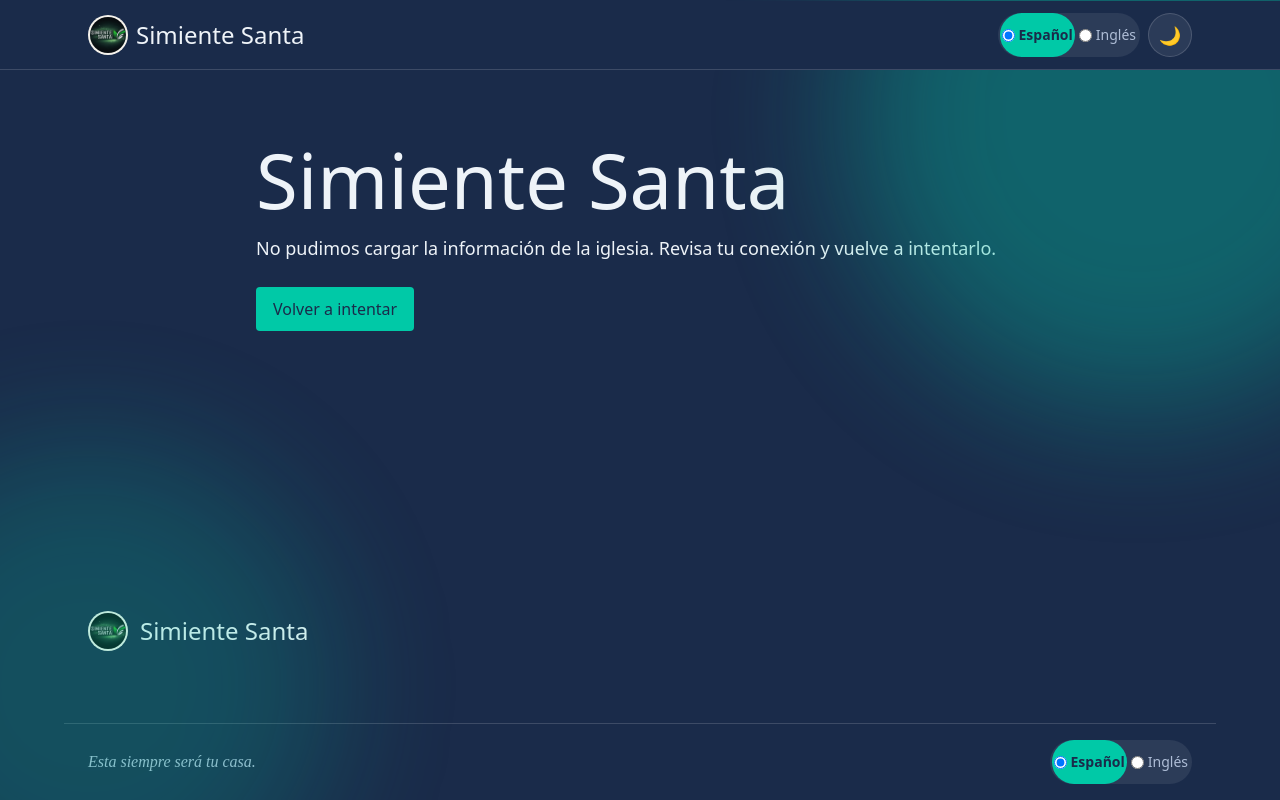
Scenario: HomePage · estados › sin contenido previo, el error ofrece volver a intentar
Check: the text "No pudimos cargar la información de la iglesia" is shown, box left=256, top=236, right=996, bottom=260
Click the button "Volver a intentar" at (335, 309), box left=256, top=287, right=414, bottom=331
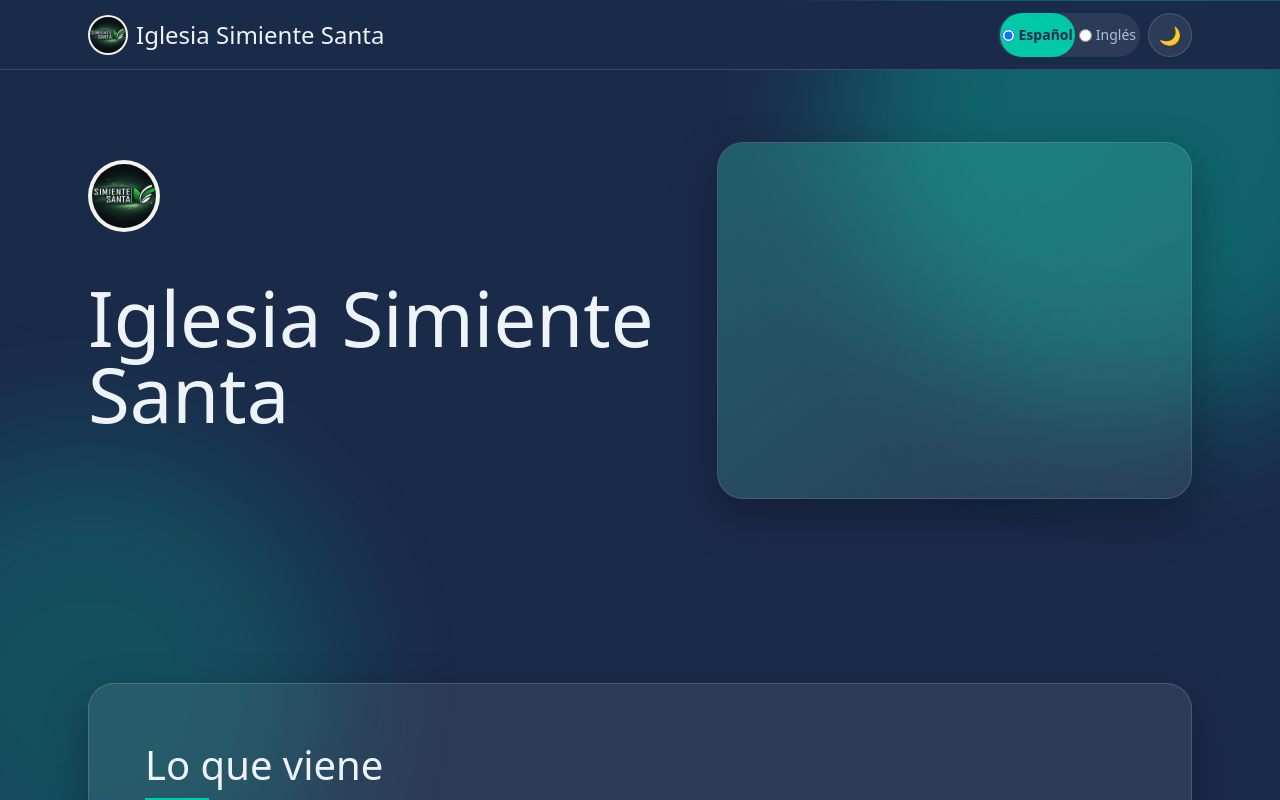
Check: the heading "Iglesia Simiente Santa" is shown, box left=88, top=280, right=669, bottom=432
